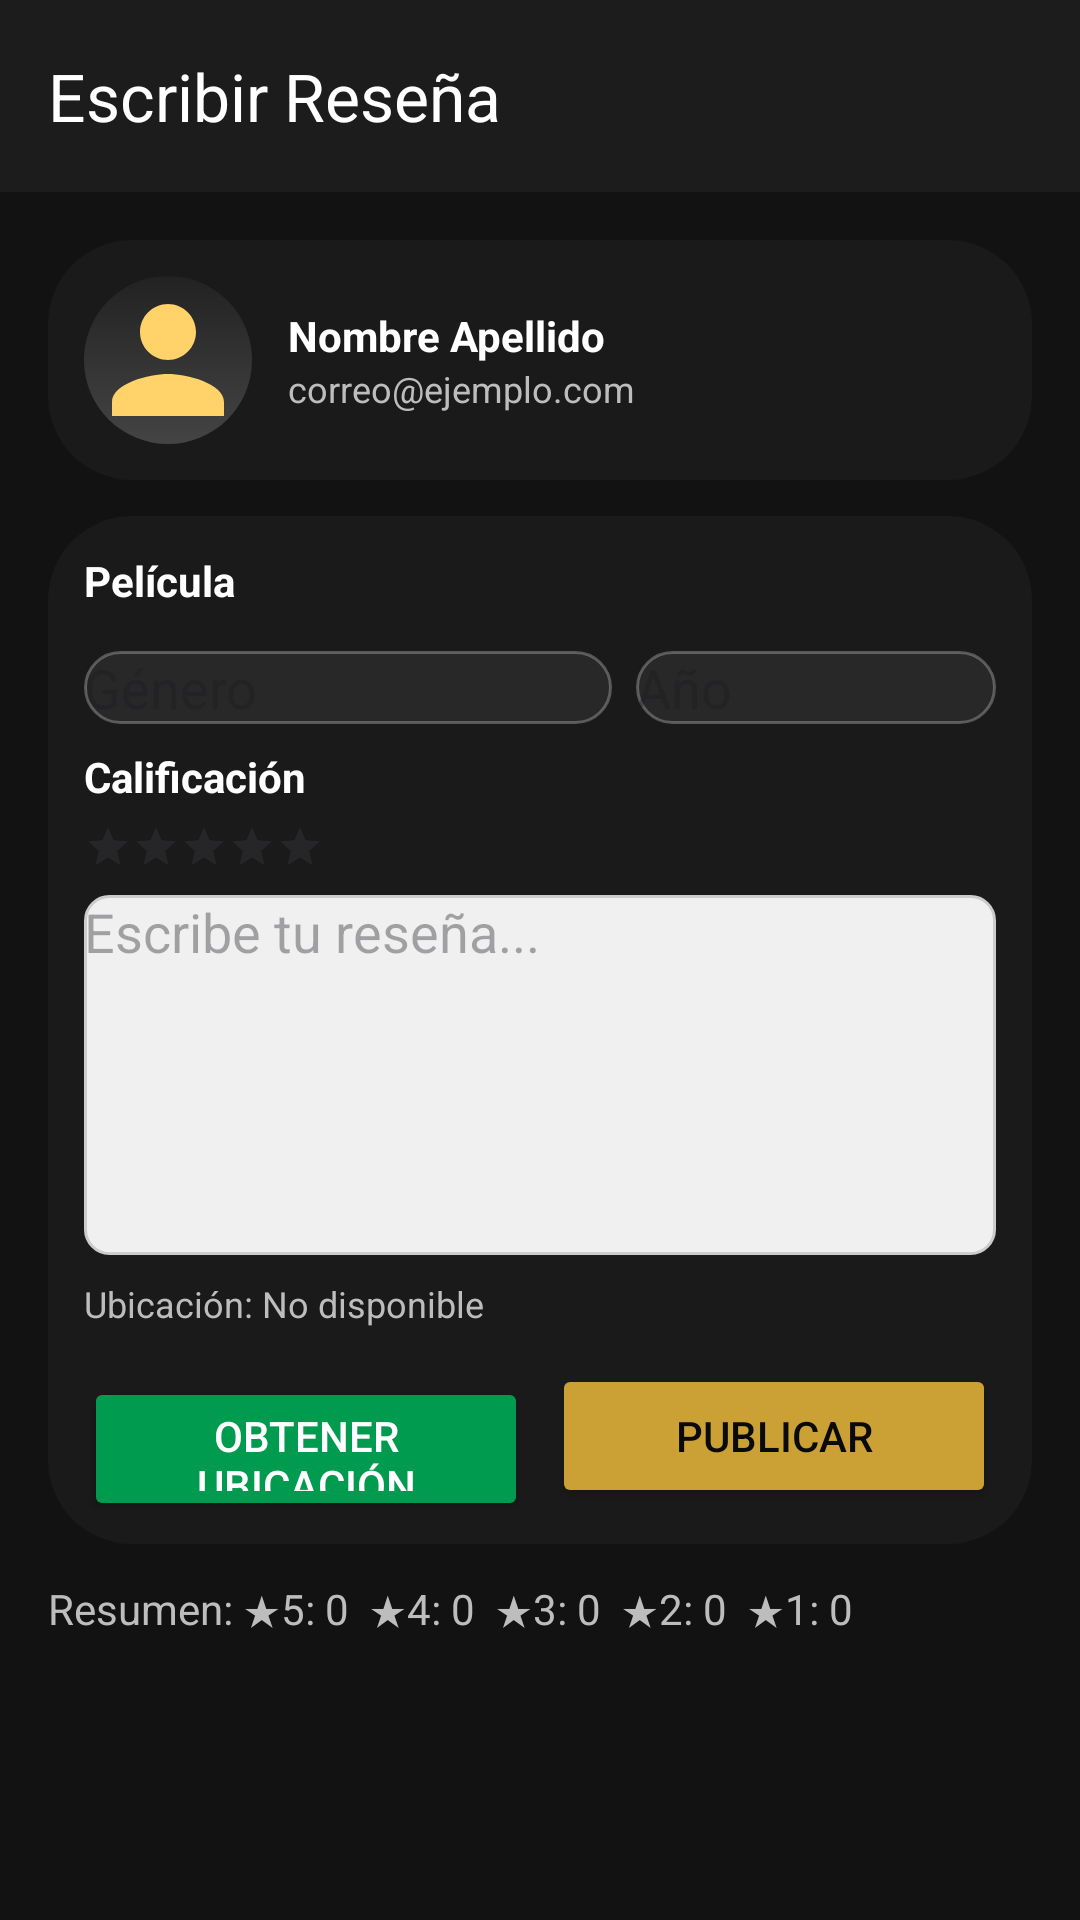

Icon click points for this 1080 x 1920 phone screenshot, format (x,y):
avatar: (168,374)
